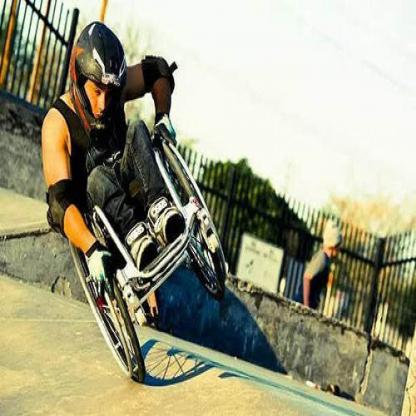wheelchair: (34, 19, 231, 382)
